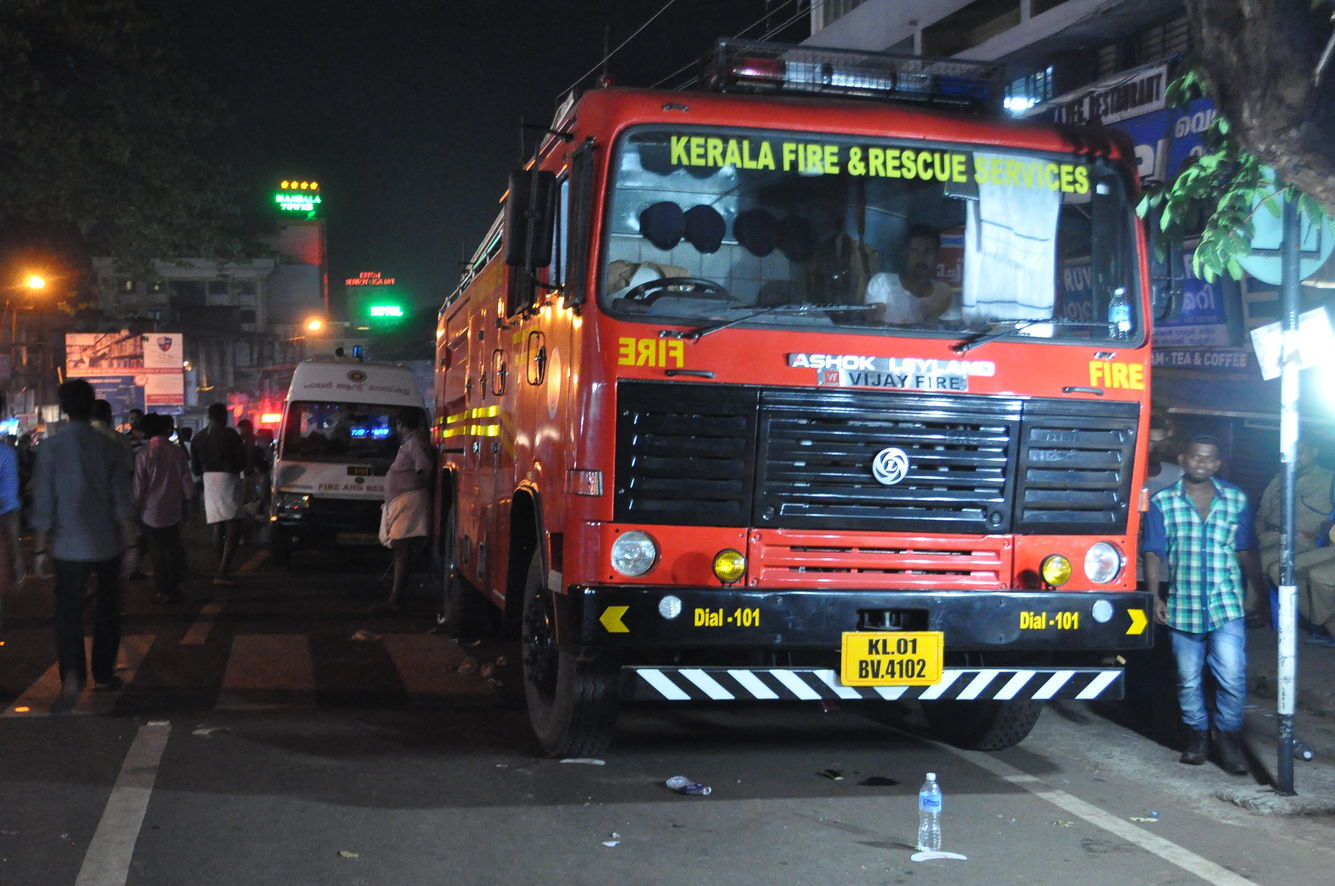Fire-engine: (514, 84, 1152, 746)
